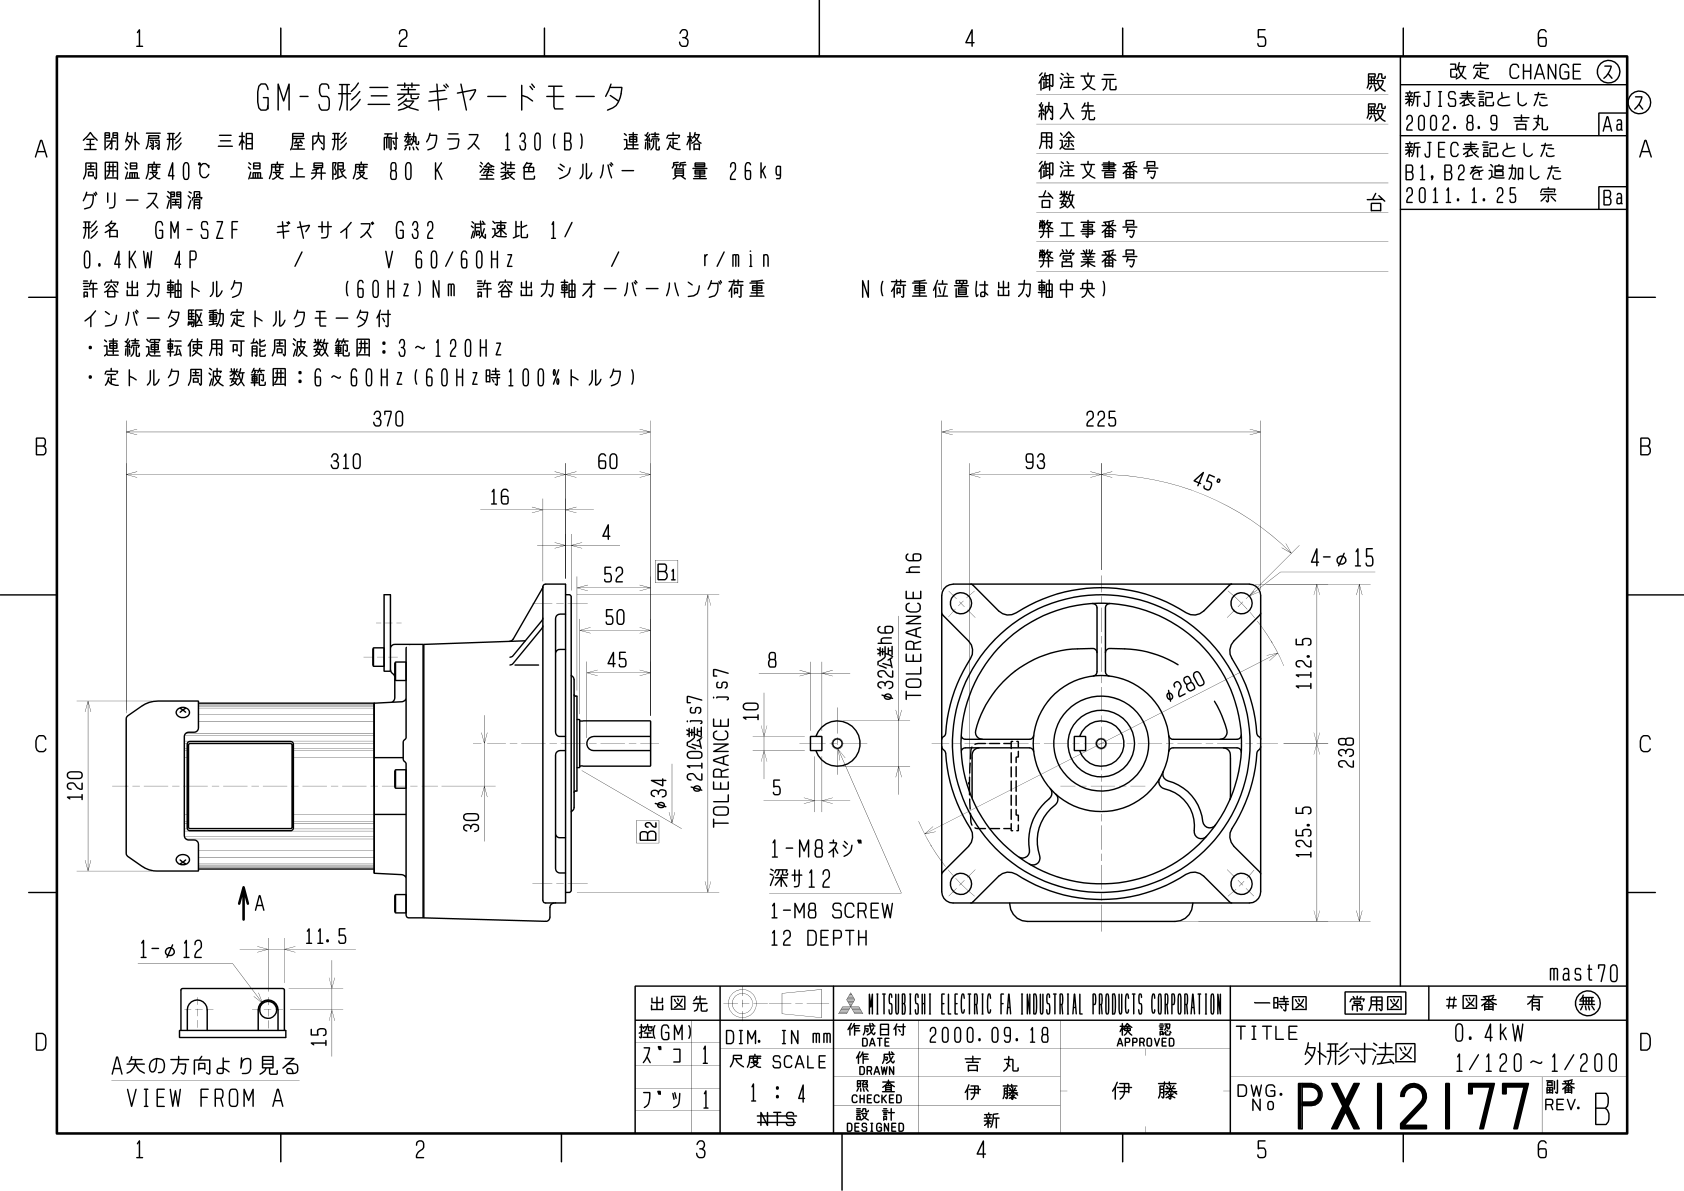GM_S_インバタ屋内＿三相_フランジ: (1, 1, 1678, 1188)
